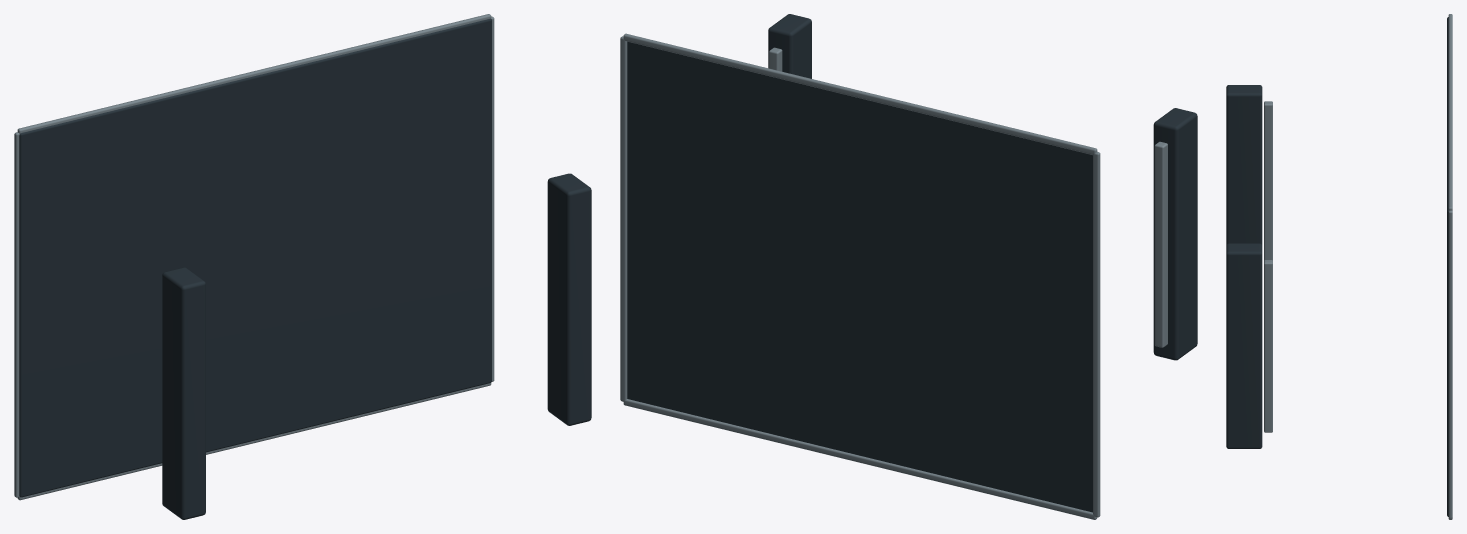
Rendered from SM_Dock_Weapon_Mount.fbx.
3 renders of one model, left to right at view 1: azimuth 30°, elevation 25°; view 2: azimuth 150°, elevation 25°; view 3: azimuth 270°, elevation 25°, orthographic. The views are drawn at different scales.
Visible parts, largest first — view 1: SM_Dock_Weapon_Mount; view 2: SM_Dock_Weapon_Mount; view 3: SM_Dock_Weapon_Mount.
Part boxes in pixels (left/top/right/bottom): SM_Dock_Weapon_Mount: left=14, top=14, right=591, bottom=519; SM_Dock_Weapon_Mount: left=620, top=14, right=1197, bottom=519; SM_Dock_Weapon_Mount: left=1226, top=14, right=1452, bottom=519.
Bounding box in the file's own units: 154 × 74.9 × 114.
